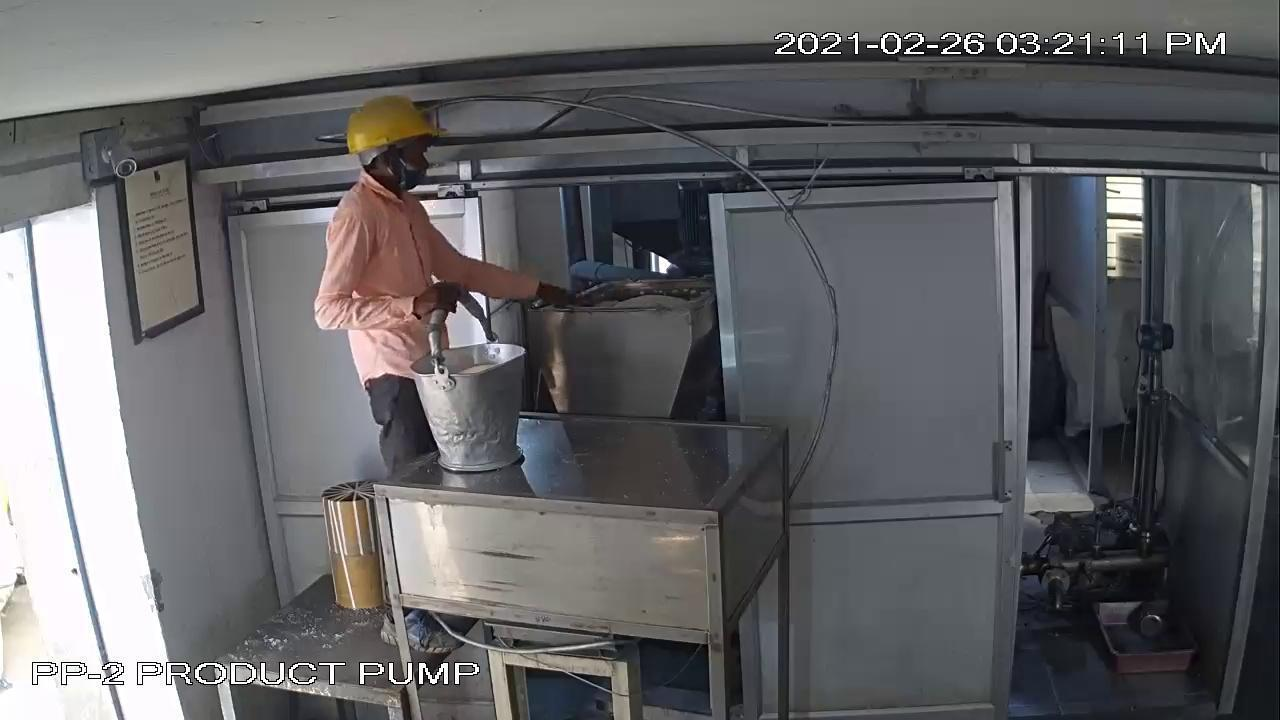helmet: (333, 84, 458, 173)
